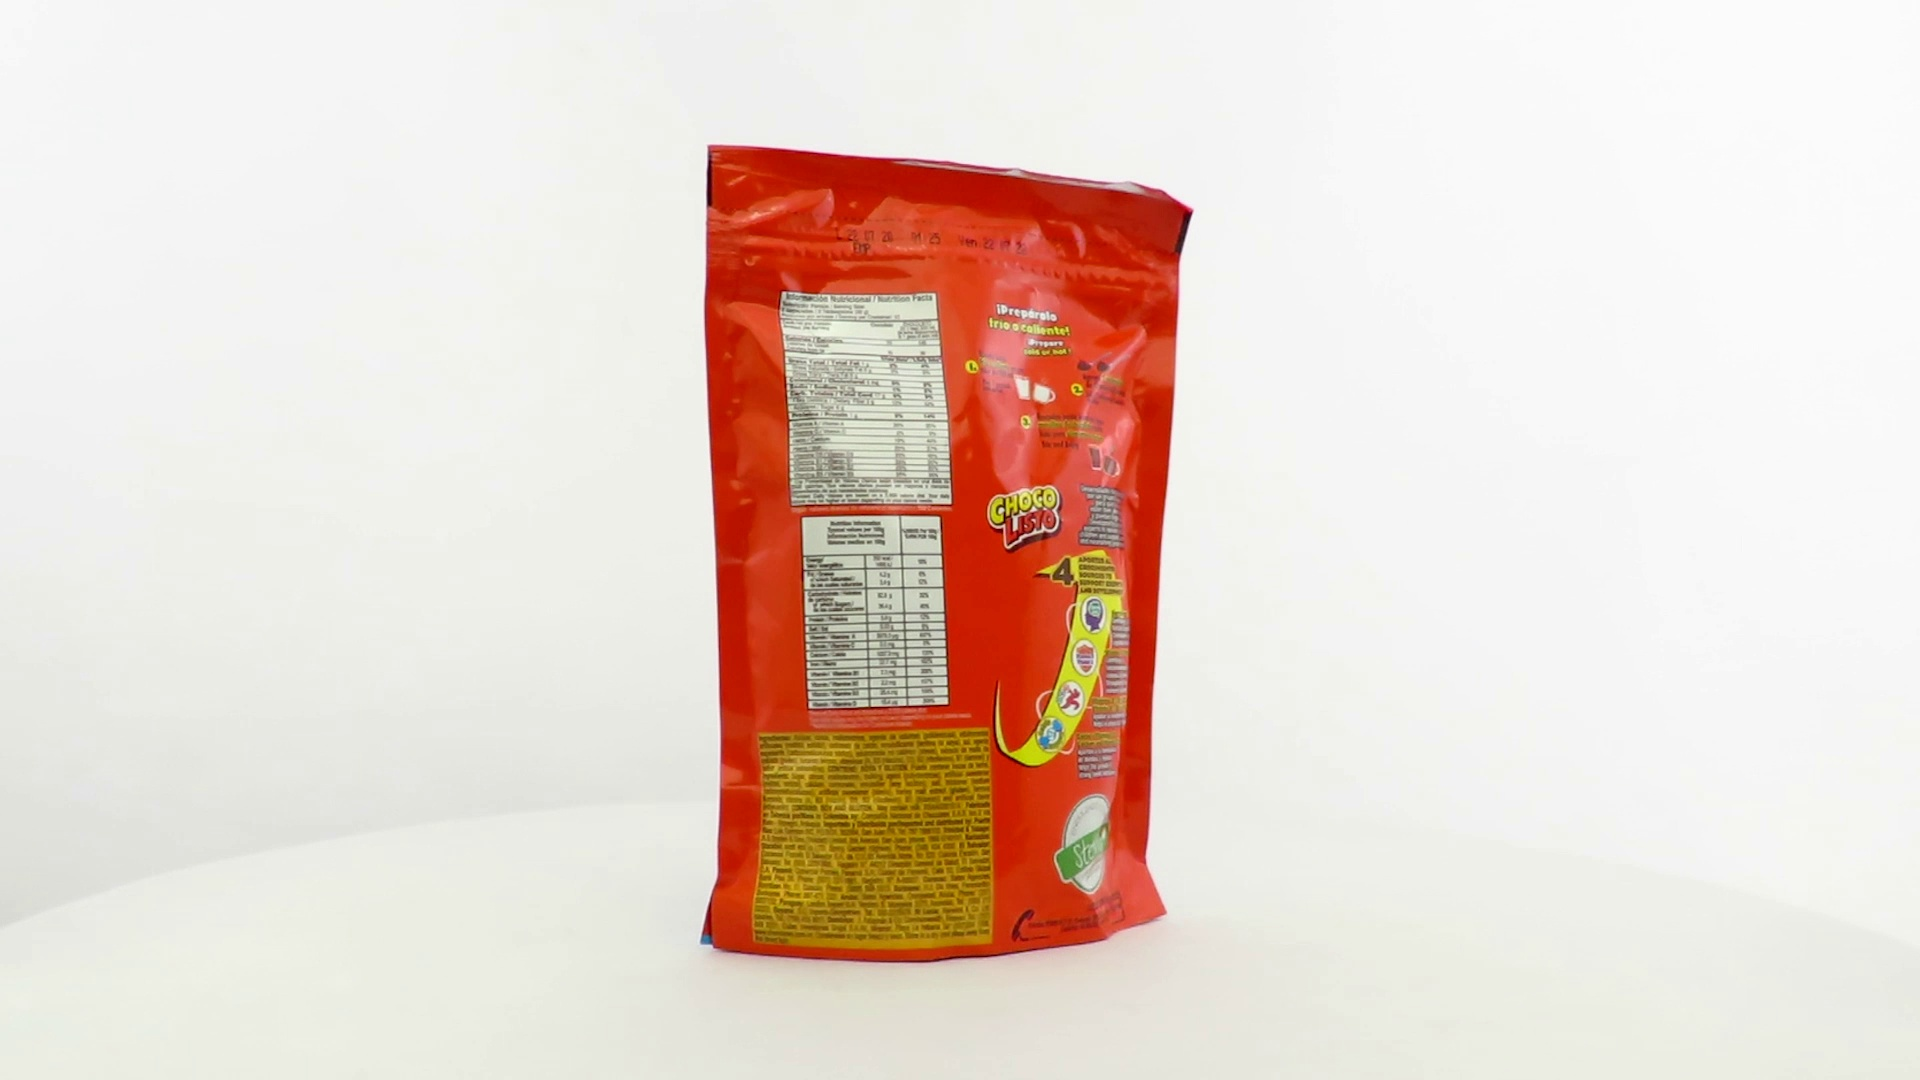COL0170104DYP20000: (695, 138, 1200, 969)
